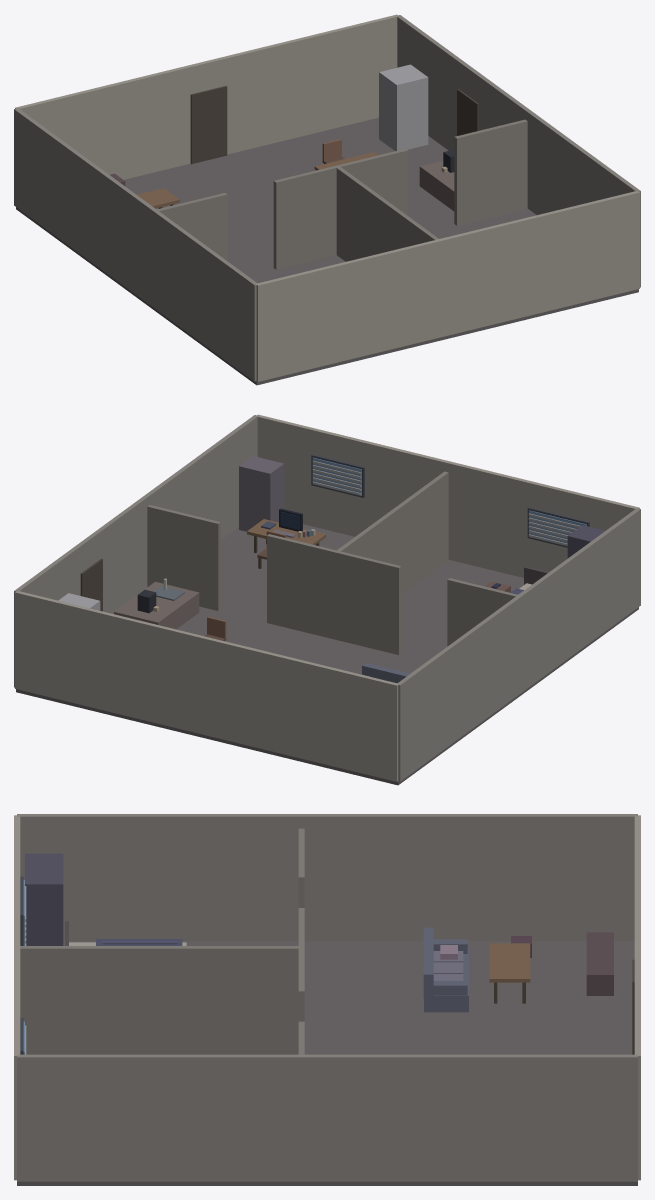
File: casaDars.obj
3 renders of one model, top to bottom at view 1: azimuth 30°, elevation 25°; view 2: azimuth 150°, elevation 25°; view 3: azimuth 270°, elevation 25°, orthographic. The views are drawn at different scales.
Visible parts, largest first — view 1: Muro_del_fondo, Pared_lateral, Muro_frontal, Suelo_continuo, División_despacho, División_dormitorio, Tabique_entre_habitaciones, Refrigerador, Puerta_CALLE, Encimera, Mesa_de_consulta, Puerta_BAÑO; view 2: Muro_frontal, Pared_lateral, Muro_del_fondo, Suelo_continuo, División_despacho, División_dormitorio, Tabique_entre_habitaciones, Archivo_de_trabajo, Encimera, Persiana, Vidrio_de_ventana, Marco_de_ventana (+5 smaller); view 3: Pared_lateral, Suelo_continuo, Tabique_entre_habitaciones, Armario_de_Dars, Muro_del_fondo, Muro_frontal, Mueble_de_entrada, Mesa_de_consulta, Sofá, Brazo_de_sofá, División_dormitorio, Cojín (+2 smaller).
Part boxes in pixels (bbox=[...]): Muro_del_fondo: bbox=[256, 191, 639, 381]; Pared_lateral: bbox=[14, 15, 640, 381]; Muro_frontal: bbox=[15, 14, 397, 179]; Suelo_continuo: bbox=[16, 117, 638, 385]; División_despacho: bbox=[337, 119, 527, 225]; División_dormitorio: bbox=[157, 165, 338, 269]; Tabique_entre_habitaciones: bbox=[336, 166, 438, 261]; Refrigerador: bbox=[379, 64, 428, 151]; Puerta_CALLE: bbox=[190, 86, 227, 164]; Encimera: bbox=[419, 161, 454, 211]; Mesa_de_consulta: bbox=[137, 152, 377, 208]; Puerta_BAÑO: bbox=[457, 89, 478, 135]; Muro_frontal: bbox=[15, 591, 398, 781]; Pared_lateral: bbox=[14, 415, 640, 781]; Muro_del_fondo: bbox=[257, 414, 639, 577]; Suelo_continuo: bbox=[16, 524, 638, 785]; División_despacho: bbox=[147, 505, 337, 639]; División_dormitorio: bbox=[336, 551, 517, 654]; Tabique_entre_habitaciones: bbox=[336, 471, 448, 593]; Archivo_de_trabajo: bbox=[239, 456, 284, 531]; Encimera: bbox=[114, 581, 199, 629]; Persiana: bbox=[312, 460, 580, 545]; Vidrio_de_ventana: bbox=[312, 457, 586, 545]; Marco_de_ventana: bbox=[311, 454, 589, 547]; Pared_lateral: bbox=[17, 814, 637, 1181]; Suelo_continuo: bbox=[17, 941, 637, 1185]; Tabique_entre_habitaciones: bbox=[20, 946, 301, 1054]; Armario_de_Dars: bbox=[25, 853, 63, 945]; Muro_del_fondo: bbox=[14, 815, 20, 1180]; Muro_frontal: bbox=[634, 815, 640, 1180]; Mueble_de_entrada: bbox=[586, 932, 613, 995]; Mesa_de_consulta: bbox=[489, 943, 530, 982]; Sofá: bbox=[424, 948, 468, 1012]; Brazo_de_sofá: bbox=[433, 939, 467, 995]; División_dormitorio: bbox=[298, 828, 304, 947]; Cojín: bbox=[433, 951, 463, 980].
Size of the model in its own units: 22.24 by 5.54 by 24.24.
